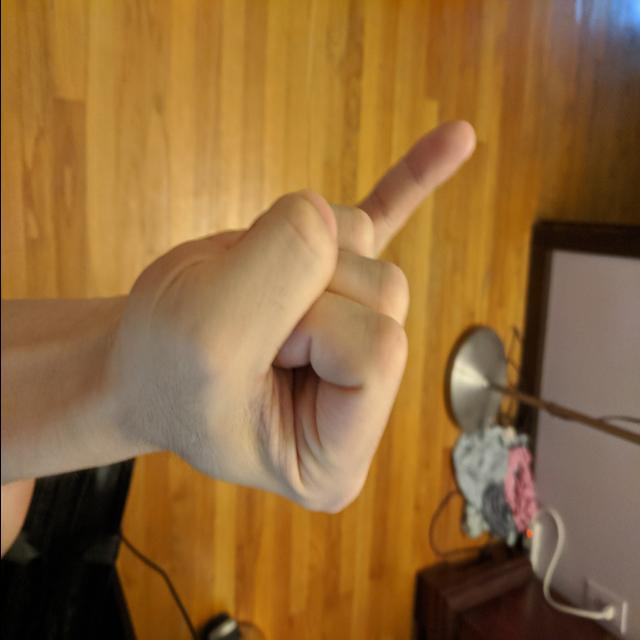I: (111, 110, 482, 522)
